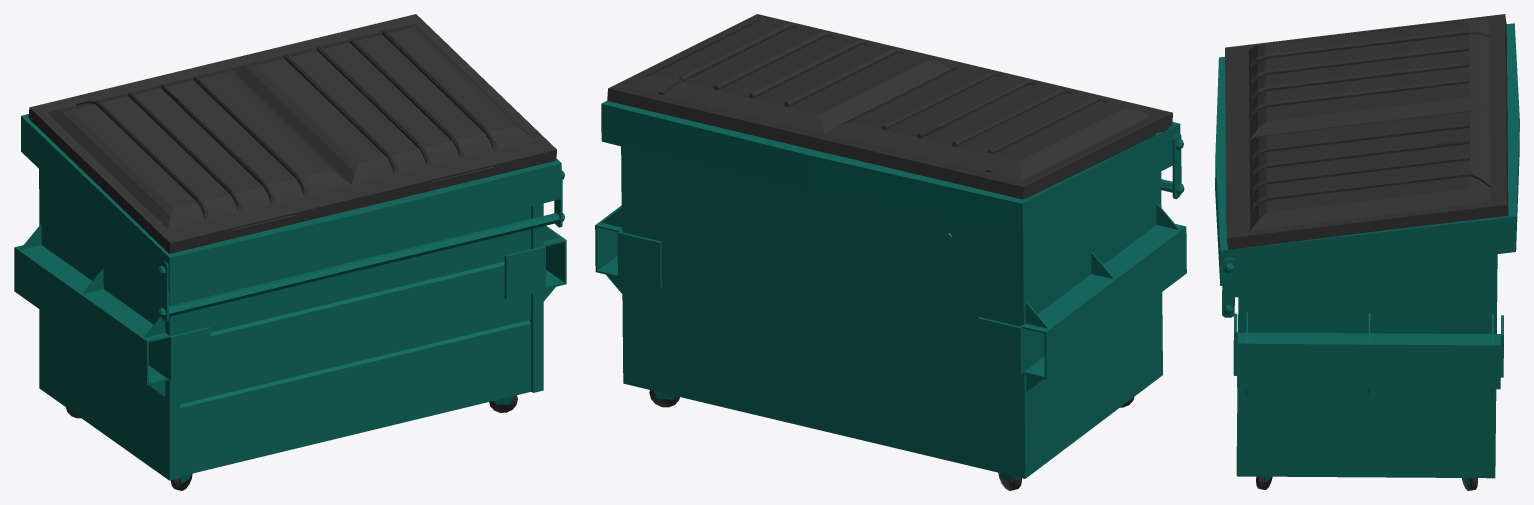
The model's file is resource-1-dumpster.gltf.
The picture shows the model from 3 angles, left to right: view 1: azimuth 30°, elevation 25°; view 2: azimuth 150°, elevation 25°; view 3: azimuth 270°, elevation 25°; orthographic projection. The views are drawn at different scales.
Visible parts, largest first — view 1: Dumpster_Cube.017; view 2: Dumpster_Cube.017; view 3: Dumpster_Cube.017.
Part boxes in pixels (left/top/right/bottom): Dumpster_Cube.017: left=14, top=14, right=566, bottom=490; Dumpster_Cube.017: left=595, top=14, right=1186, bottom=490; Dumpster_Cube.017: left=1215, top=14, right=1519, bottom=490.
Size of the model in its own units: 3.5 by 2.48 by 2.2.
